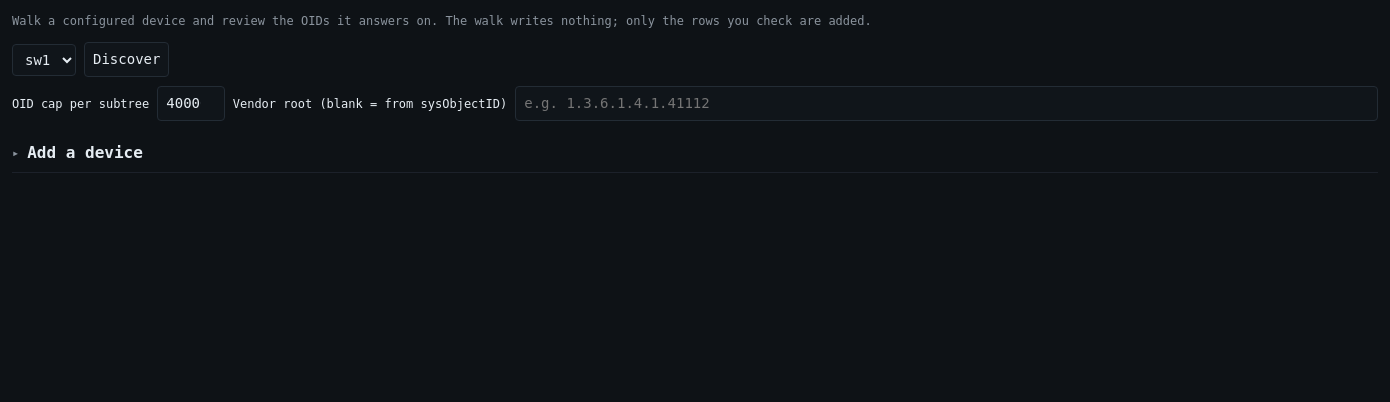
Test: refuses to add a gauge with no band, and sends nothing
What coordinates should you click on to do the following:
click the button "Discover"
I would click on:
 (127, 60)
Its box is [84, 42, 169, 77].
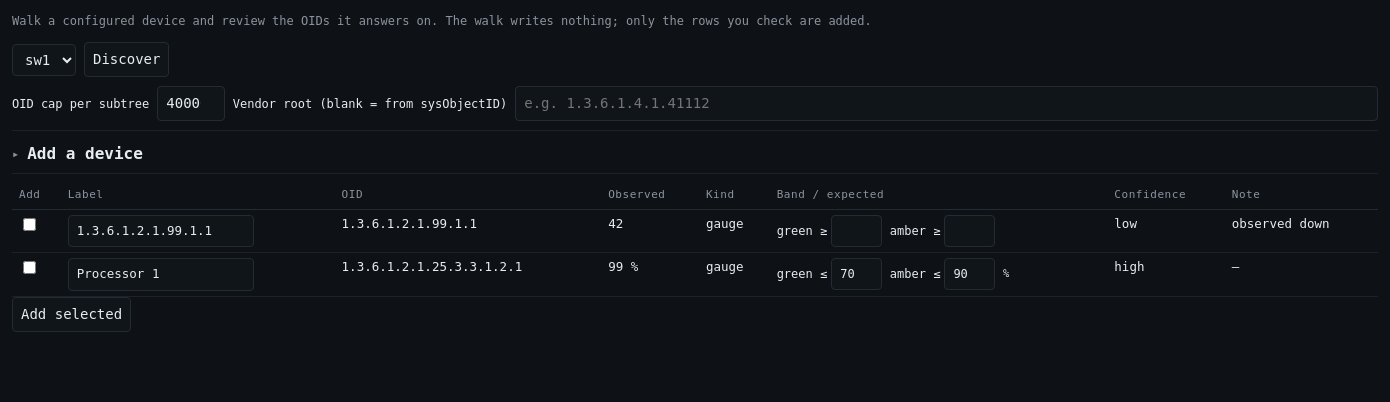
What coordinates should you click on to do the following:
click the checkbox named "Add 1.3.6.1.2.1.99.1.1"
I would click on:
 (30, 224)
Its box is [23, 218, 36, 230].
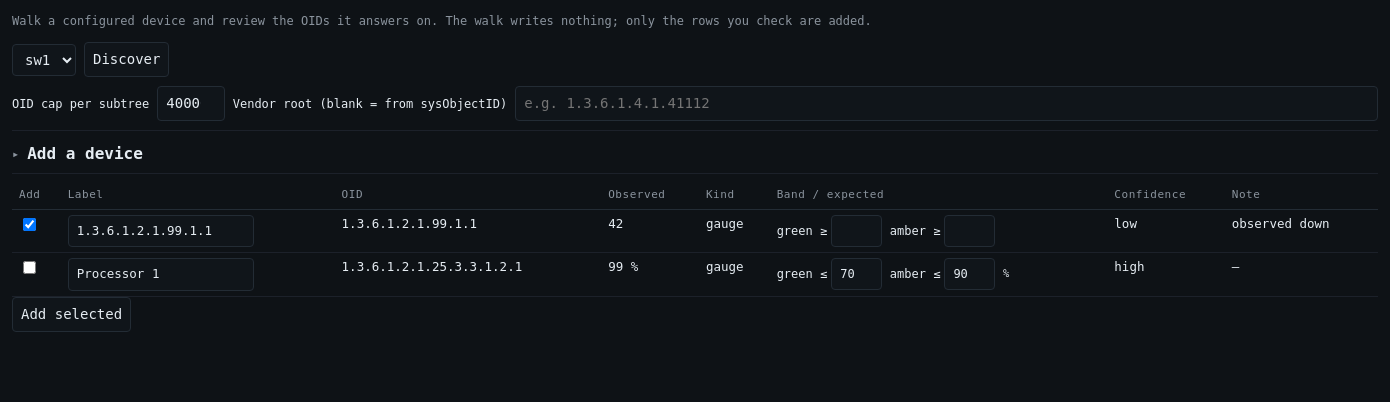
What coordinates should you click on to do the following:
click the button "Add selected"
I would click on:
 (72, 314)
Its box is [12, 297, 131, 332].
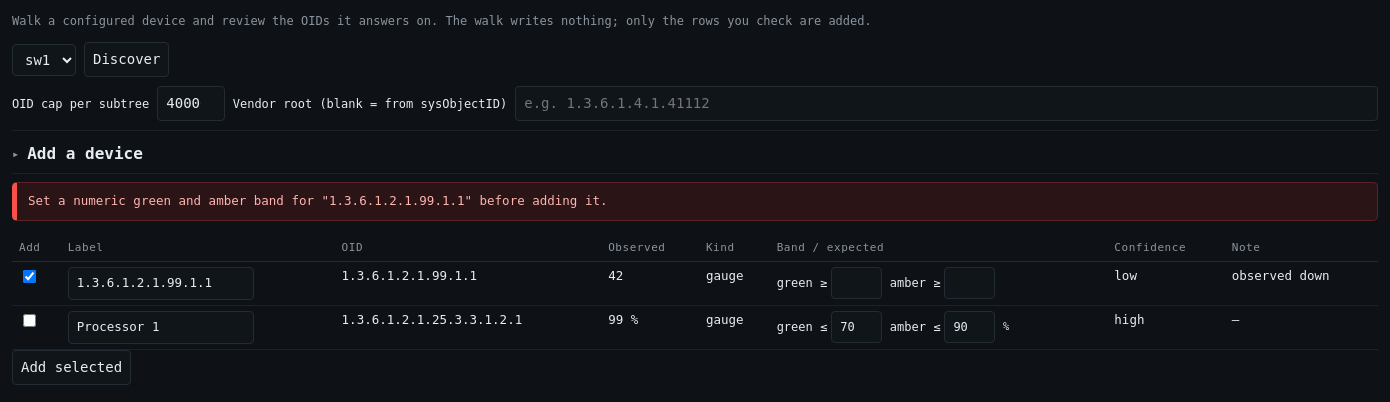
Check: the text "Set a numeric green and amber band for \"1.3.6.1.2.1.99.1.1\" before adding it." is shown, box [12, 182, 1378, 221]
